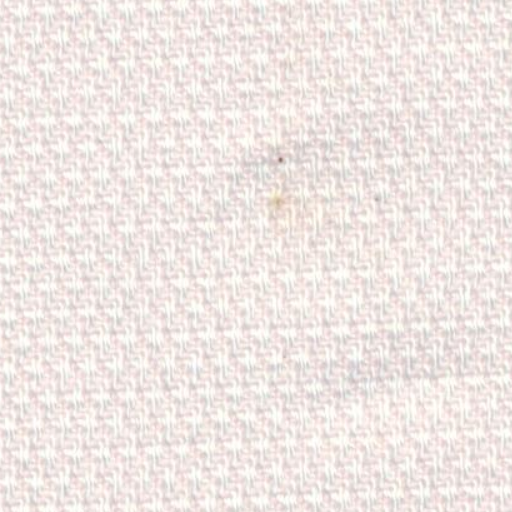WuZi: (230, 126, 349, 236)
